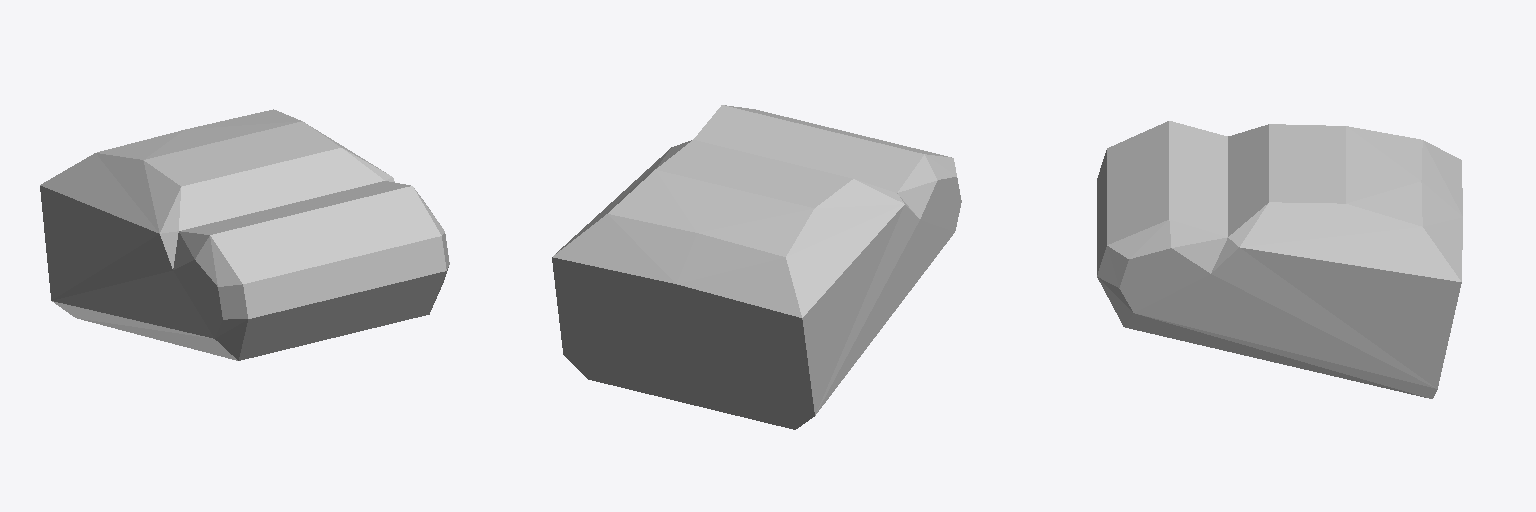
The model's file is thumbj3_left.obj.
3 renders of one model, left to right at view 1: azimuth 30°, elevation 25°; view 2: azimuth 150°, elevation 25°; view 3: azimuth 270°, elevation 25°, orthographic.
Size of the model in its own units: 0.021 by 0.0148 by 0.0265.